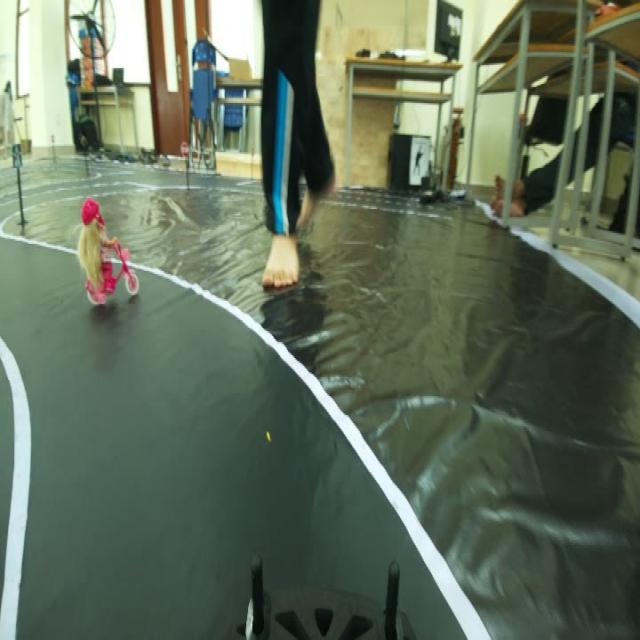pedestrian: (63, 186, 144, 335)
